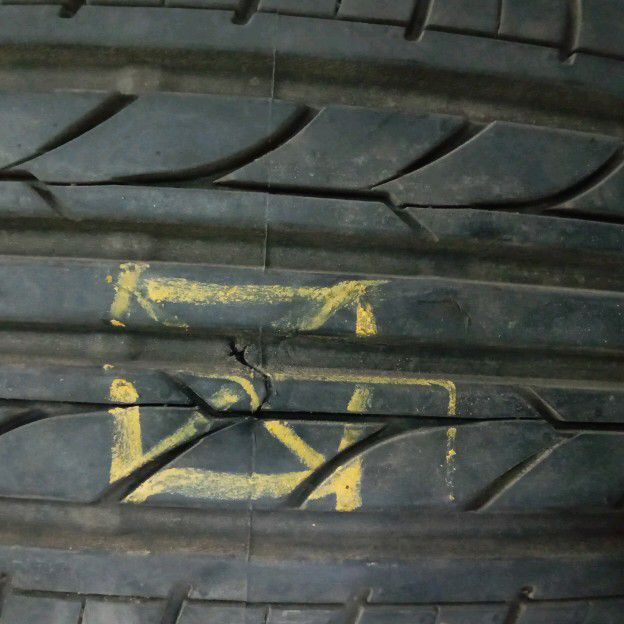tr: (220, 331, 280, 416)
